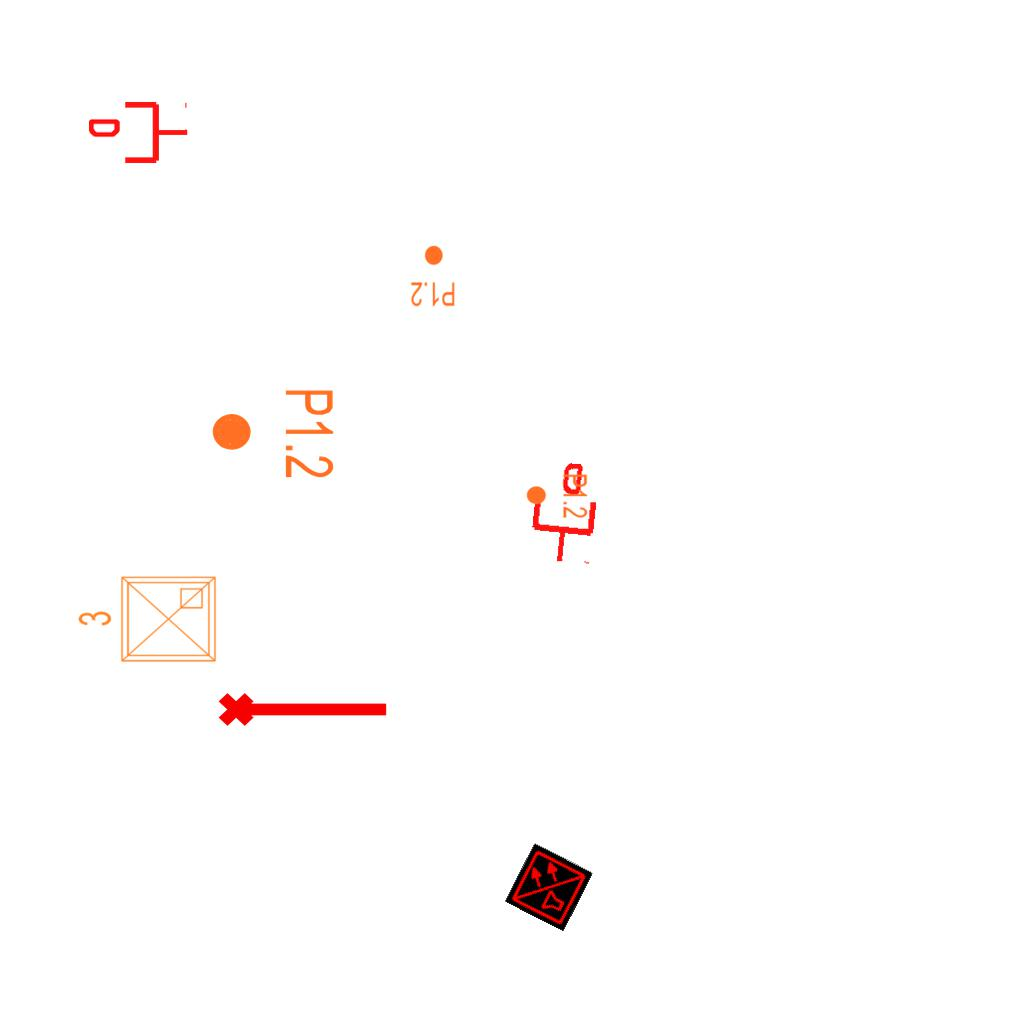ASR_Ansaugoeffnung: (216, 684, 392, 730)
Datenanschluss_einfach: (524, 459, 605, 567), (89, 98, 189, 167)
Downlight_LED_Einbauleuchten_Flur: (209, 387, 337, 480), (410, 244, 456, 308), (525, 473, 589, 519)
Einbaudownlights_LED_Konferenzraeume: (73, 569, 223, 673)
OKW_Multisensormelder_(Kombination_optischer_Rauch-Kahlenmonoxid_Waerme-Melder): (504, 842, 594, 932)
